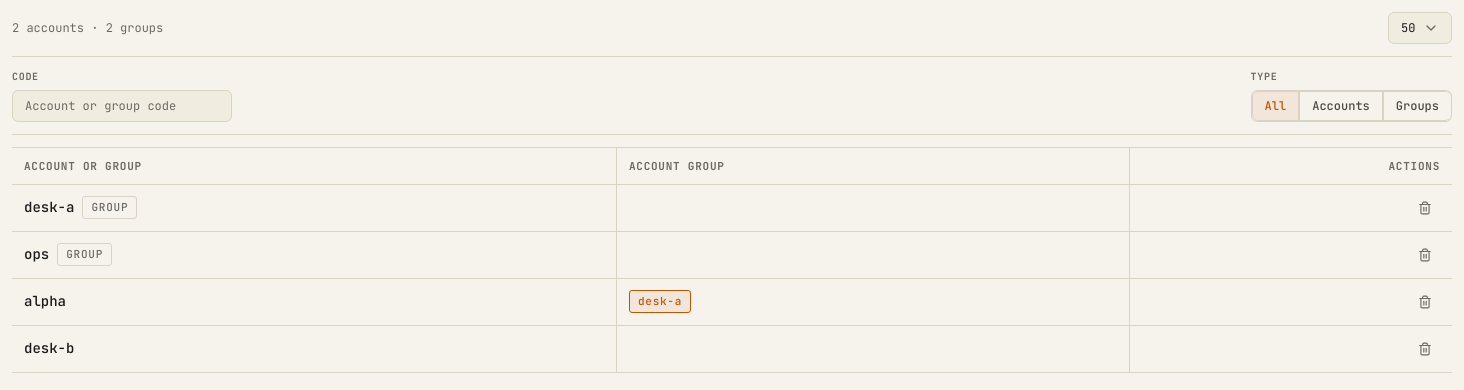
Test: VenueAccessList › filters by kind and by a case-insensitive code fragment
Click the button "Accounts". click: (1341,106)
box: [1299, 91, 1383, 121]
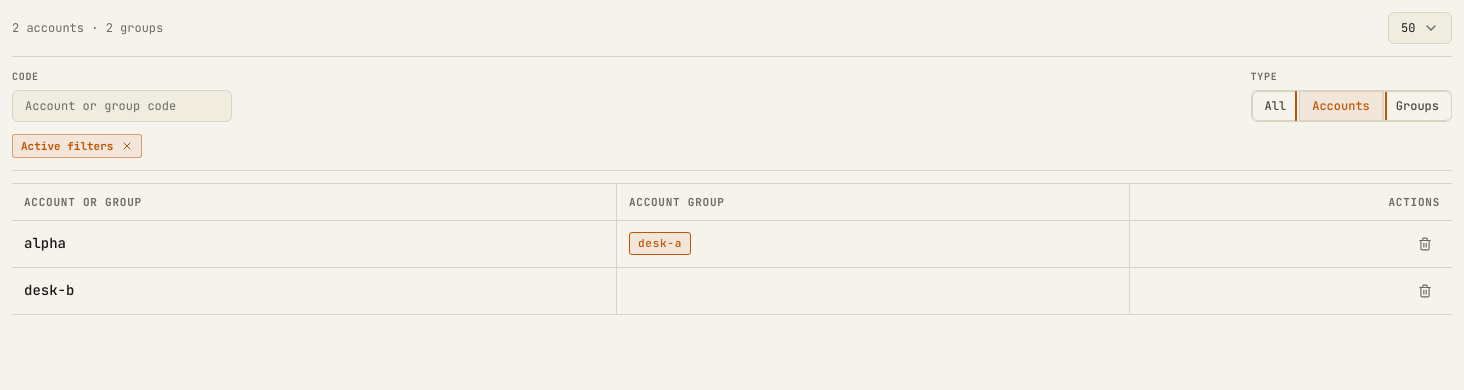
Click the button "Groups". click: (1417,106)
box: [1383, 91, 1451, 121]
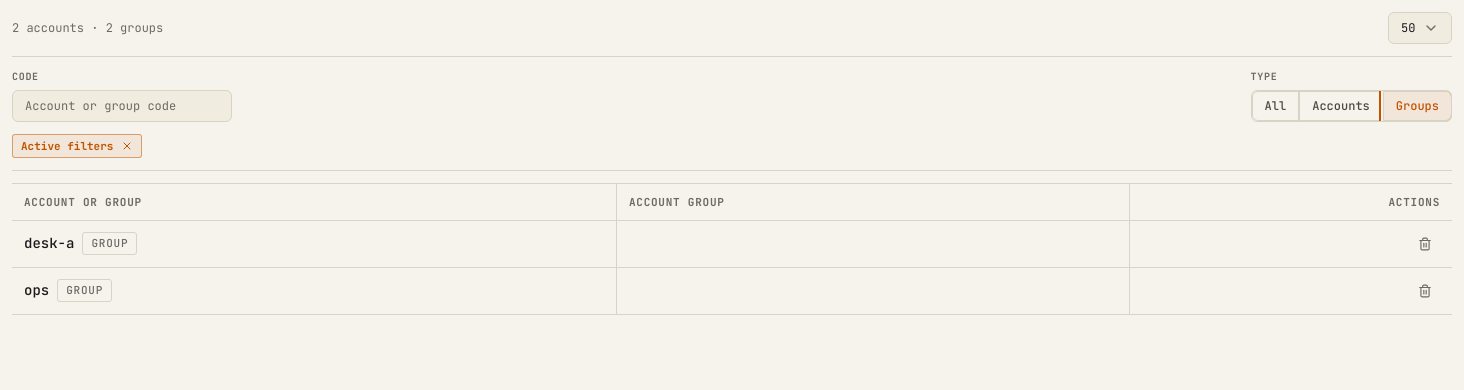
Click the button "All". click: (1275,106)
box: [1252, 91, 1299, 121]
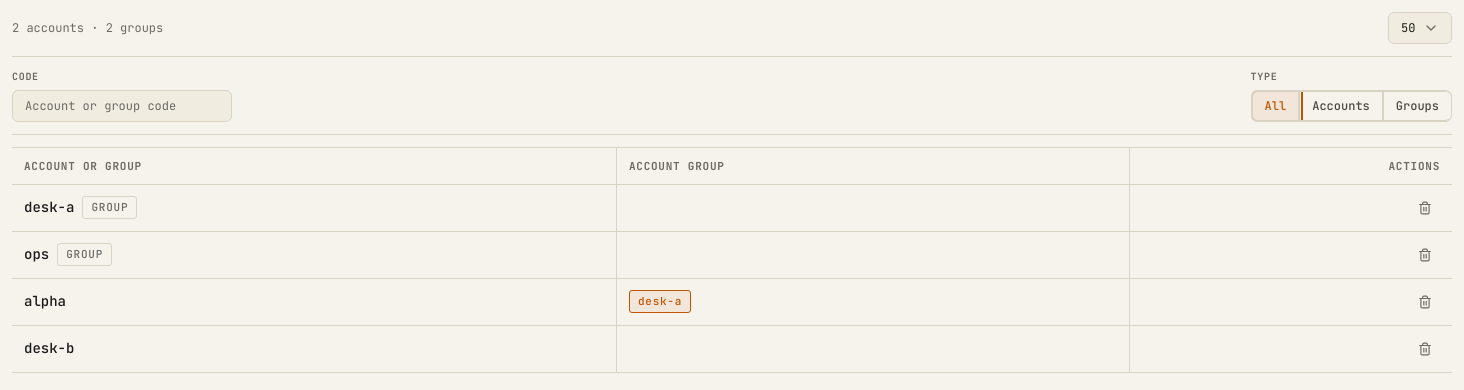
Type "ESK" into the dropdown labelled "Code". click: (122,106)
box: [12, 90, 232, 122]
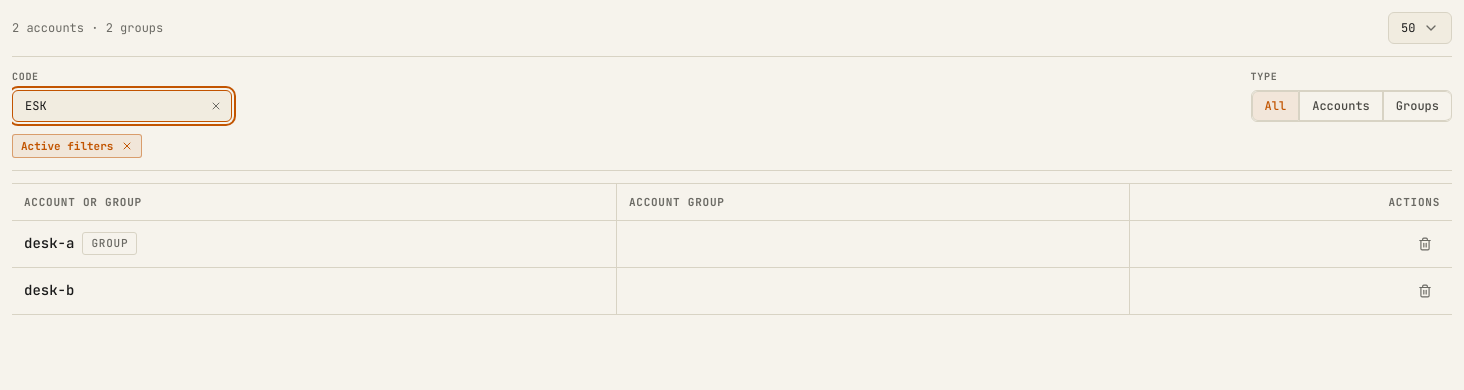
Click the button "Accounts". click: (1341,106)
box: [1299, 91, 1383, 121]
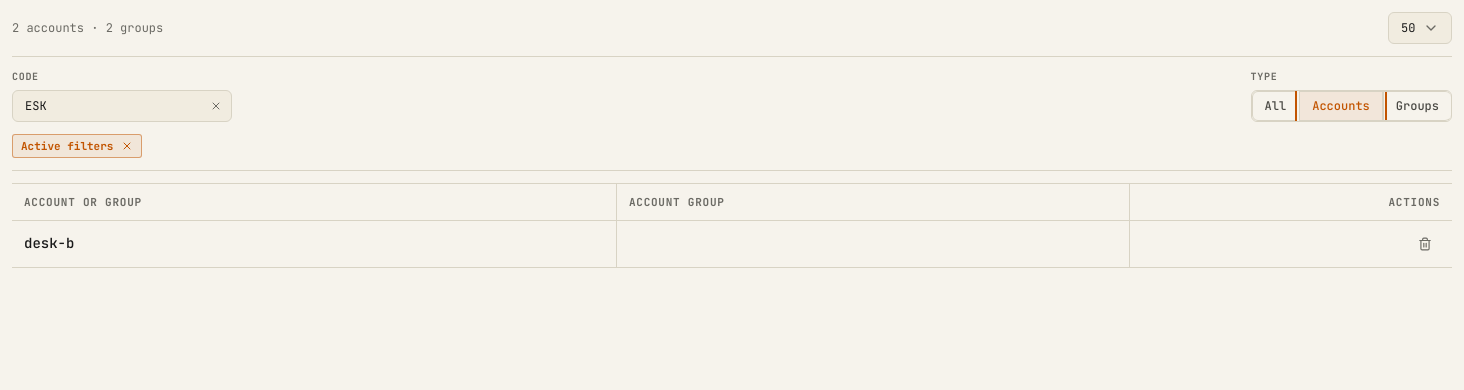
Click the button named "Clear all filters". click: (127,146)
box: [117, 136, 137, 156]
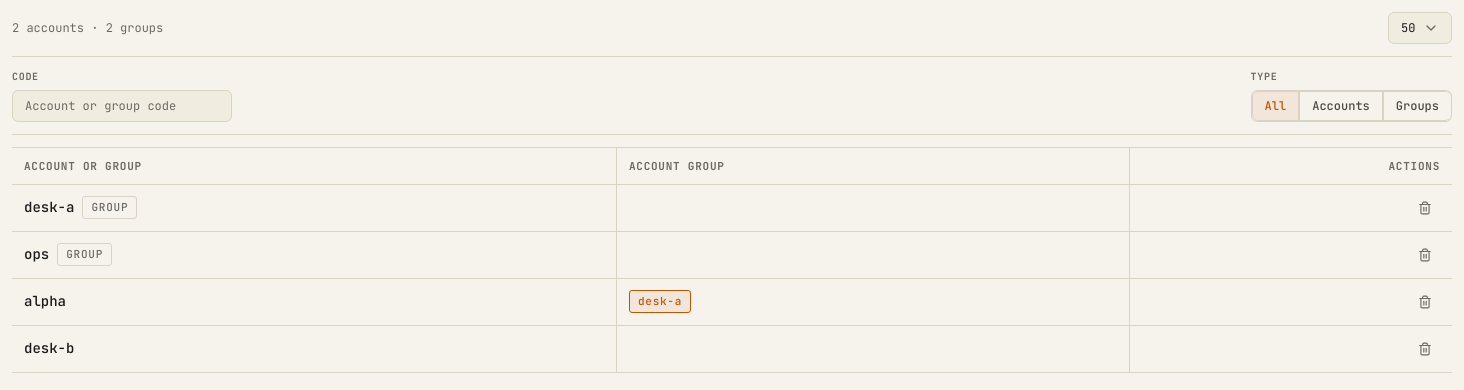
Expected: the dropdown labelled "Code" is empty, [12, 90, 232, 122]
